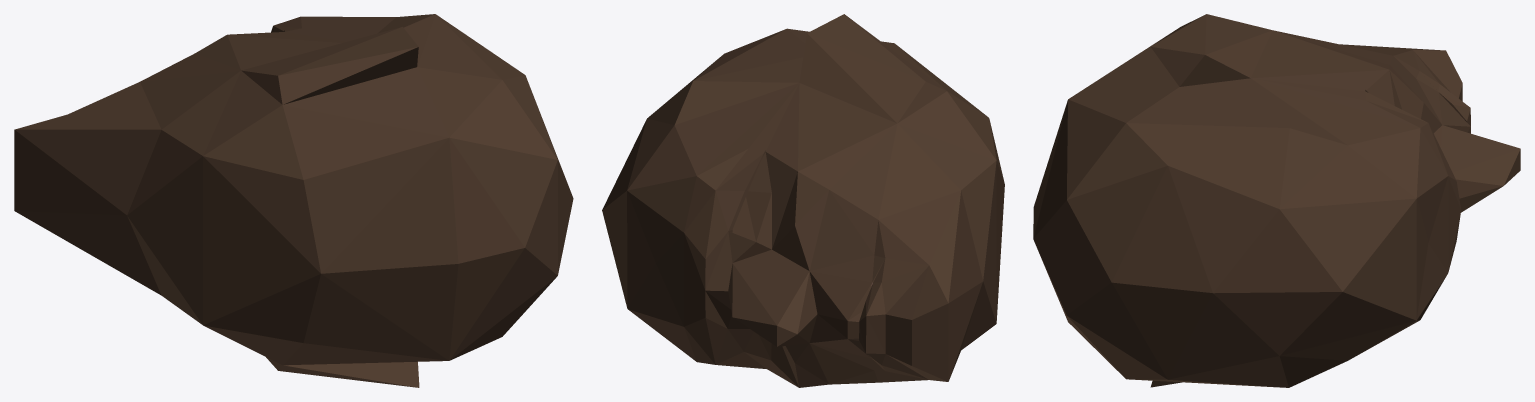
Rendered from HUM_HEAD_PSIONIC.OBJ.
3 views of the same model, side by side, from view 1: azimuth 30°, elevation 25°; view 2: azimuth 150°, elevation 25°; view 3: azimuth 270°, elevation 25° (orthographic). The views are drawn at different scales.
Parts seen in each view (by area): view 1: HUM_HEAD_PSIONIC; view 2: HUM_HEAD_PSIONIC; view 3: HUM_HEAD_PSIONIC.
Boxes of the visible parts, x1,y1,x2,y2 form: HUM_HEAD_PSIONIC: (14, 14, 573, 387); HUM_HEAD_PSIONIC: (602, 14, 1004, 387); HUM_HEAD_PSIONIC: (1033, 14, 1520, 387).
Bounding box in the file's own units: 0.2548 × 0.2011 × 0.261.
